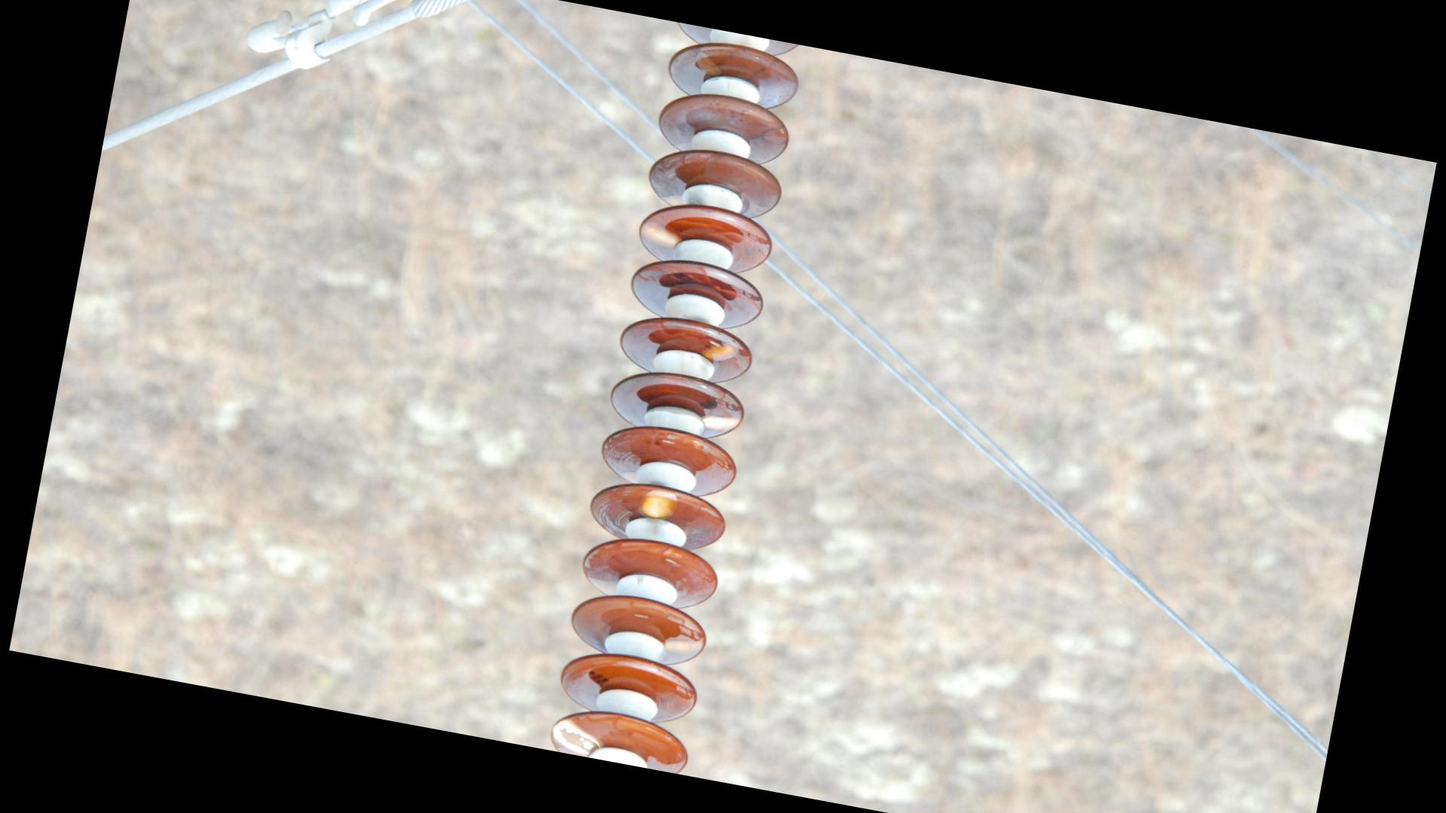damper: (237, 1, 417, 90)
